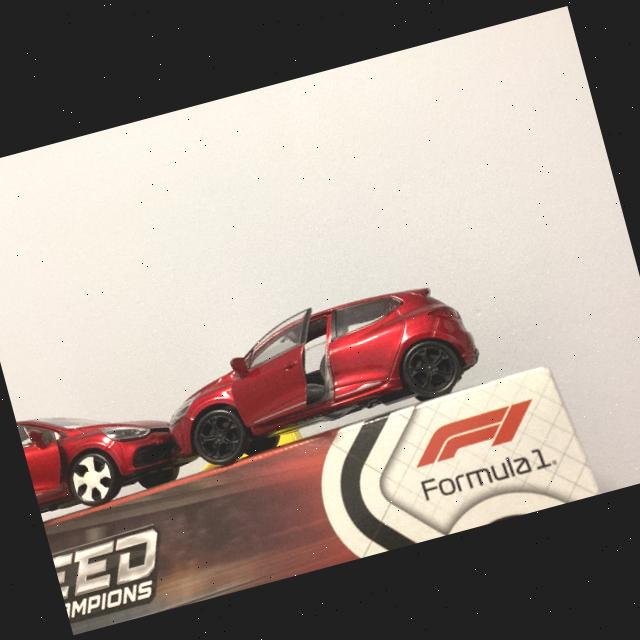Dogru_Jant: (192, 408, 246, 464), (404, 343, 454, 394)
Yanlis_Jant: (68, 452, 116, 505)
